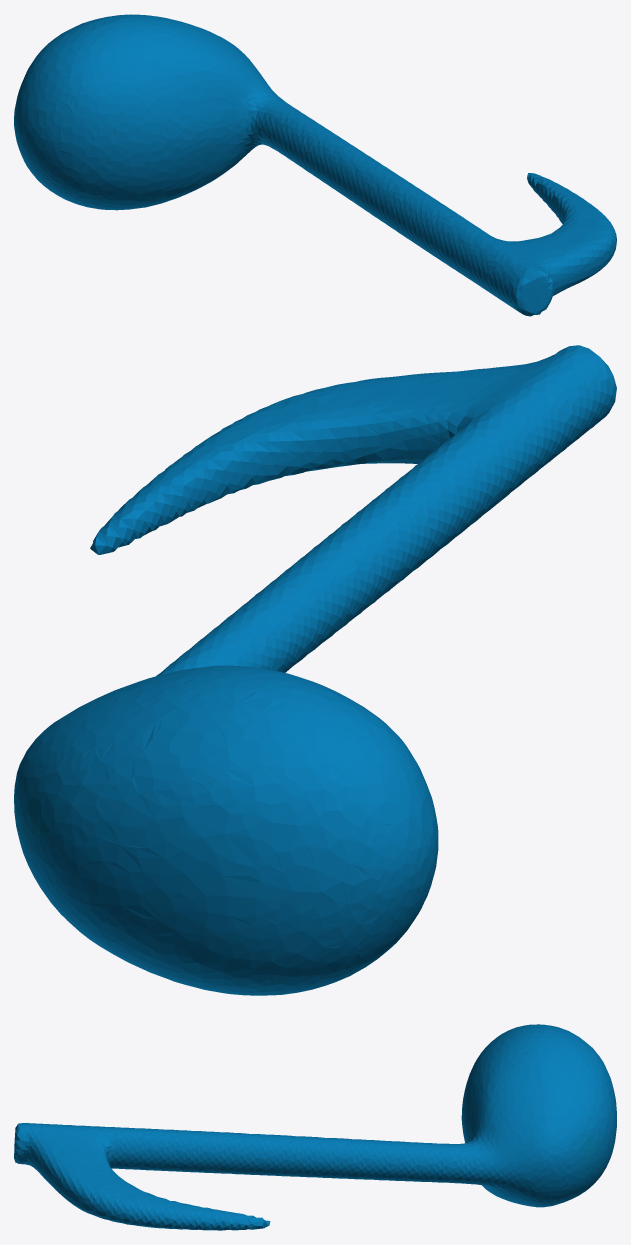
File: bluenote.obj
3 views of the same model, one above another, from view 1: azimuth 30°, elevation 25°; view 2: azimuth 150°, elevation 25°; view 3: azimuth 270°, elevation 25° (orthographic). The views are drawn at different scales.
Parts seen in each view (by area): view 1: Layer_1; view 2: Layer_1; view 3: Layer_1.
Boxes of the visible parts, left/top/right/bottom form: Layer_1: left=14, top=14, right=616, bottom=316; Layer_1: left=14, top=345, right=616, bottom=995; Layer_1: left=14, top=1024, right=616, bottom=1230.
Size of the model in its own units: 0.1148 by 0.0541 by 0.1954.
